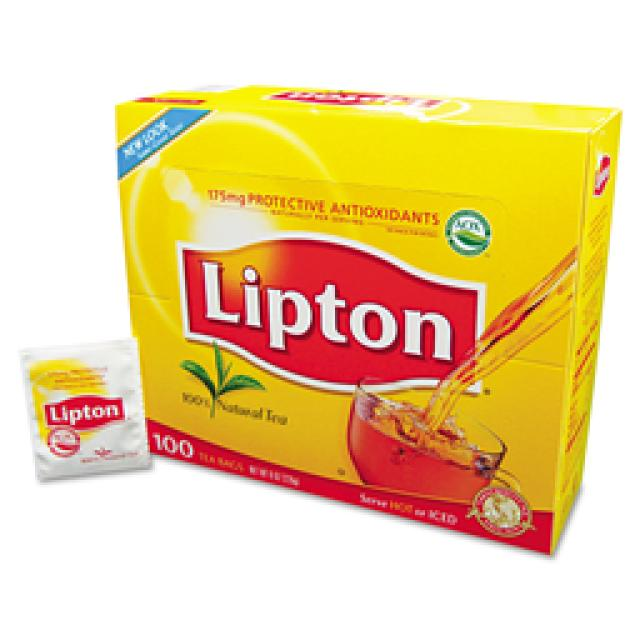tea-bags: (115, 85, 620, 552), (18, 338, 150, 480)
